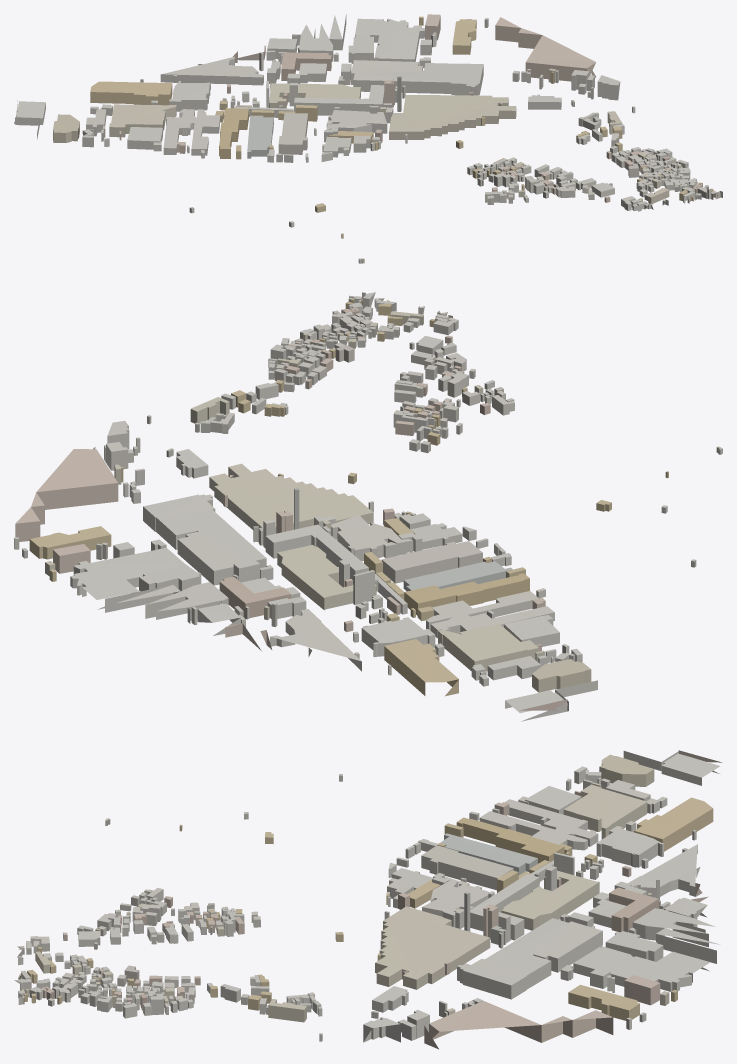
The picture shows the model from 3 angles, top to bottom: view 1: azimuth 30°, elevation 25°; view 2: azimuth 150°, elevation 25°; view 3: azimuth 270°, elevation 25°; orthographic projection. The views are drawn at different scales.
Size of the model in its own units: 1018 by 80.43 by 1049.
